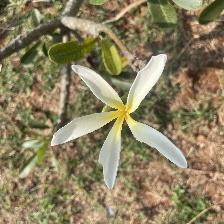champaka: (49, 52, 198, 191)
